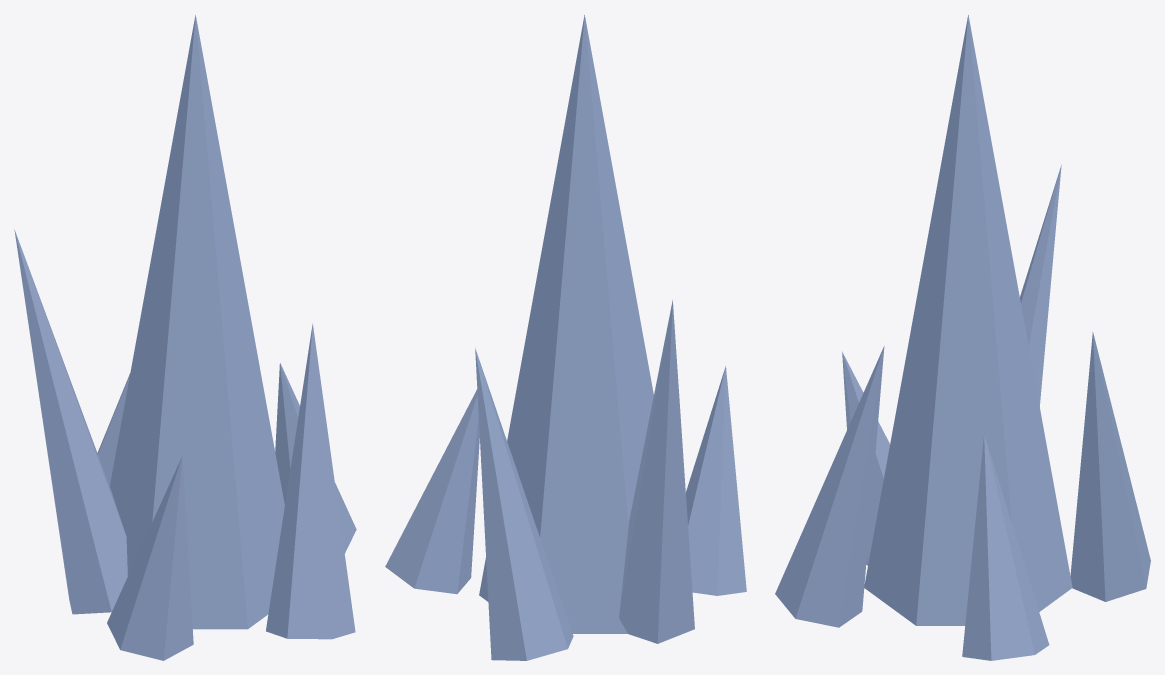
The model's file is rock_obsidian_crystal_spire.glb.
3 views of the same model, side by side, from view 1: azimuth 30°, elevation 25°; view 2: azimuth 150°, elevation 25°; view 3: azimuth 270°, elevation 25° (orthographic).
Parts seen in each view (by area): view 1: Cone, Cone.003, Cone.005, Cone.004, Cone.001, Cone.002; view 2: Cone, Cone.003, Cone.002, Cone.001, Cone.004; view 3: Cone, Cone.005, Cone.002, Cone.001, Cone.003, Cone.004.
Part boxes in pixels (<box>): Cone: <box>109,15,284,629</box>; Cone.003: <box>14,229,127,614</box>; Cone.005: <box>266,323,355,639</box>; Cone.004: <box>107,456,193,660</box>; Cone.001: <box>275,363,356,553</box>; Cone.002: <box>97,373,130,485</box>; Cone: <box>479,15,653,633</box>; Cone.003: <box>619,300,694,643</box>; Cone.002: <box>475,347,573,660</box>; Cone.001: <box>385,389,479,594</box>; Cone.004: <box>686,366,746,595</box>; Cone: <box>864,15,1072,625</box>; Cone.005: <box>775,346,884,627</box>; Cone.002: <box>1070,332,1150,601</box>; Cone.001: <box>962,433,1049,660</box>; Cone.003: <box>1020,164,1061,406</box>; Cone.004: <box>842,351,889,565</box>.
Bounding box in the file's own units: 4.73 × 8.6 × 5.05.
